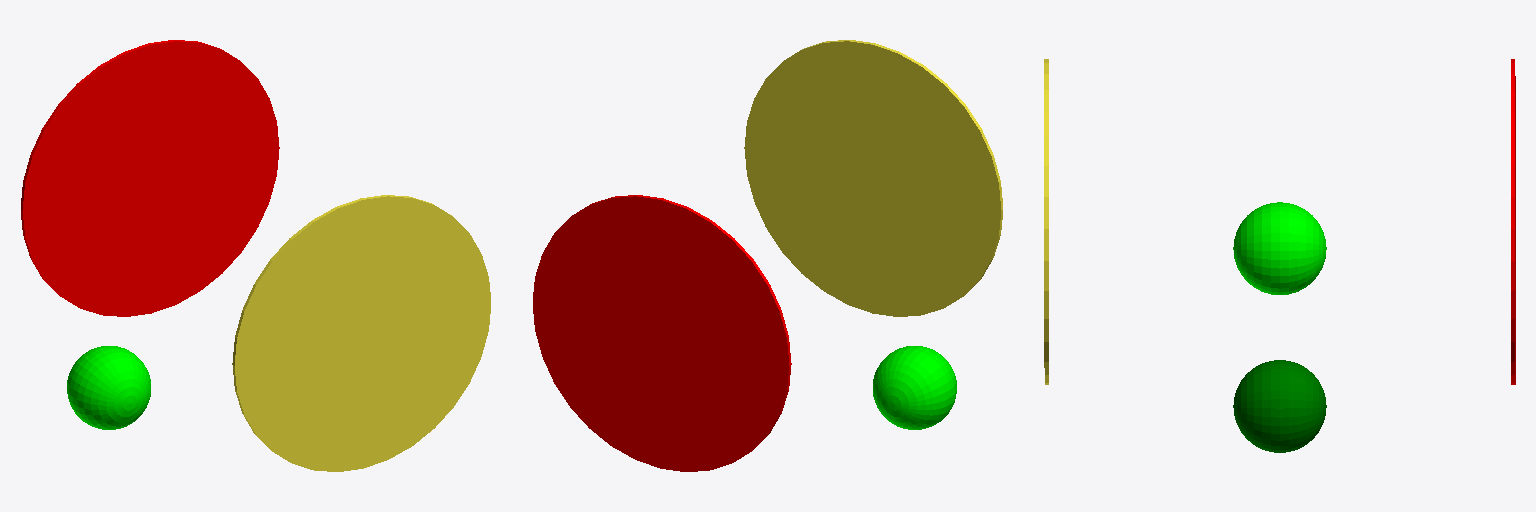
robot.urdf — box_bot:
<?xml version="1.0"?>
<robot name="box_bot">

    <material name="red">
        <color rgba="1.0 0.0 0.0 1"/>
    </material>

    <material name="green_light">
        <color rgba="0.0 1.0 0.0 1"/>
    </material>

    <material name="green_dark">
        <color rgba="0.0 0.5 0.0 1"/>
    </material>

    <material name="blue">
        <color rgba="0.0 0.0 1.0 1"/>
    </material>

    <link name="base_link">
    </link>

    <!-- Body -->
    <link name="chassis">
        <visual>
            <geometry>
                <mesh filename="package://my_box_bot_description/meshes/cute_cube.dae" scale="0.1 0.1 0.1"/>
            </geometry>
        </visual>

        <collision>
            <geometry>
                <box size="0.1 0.1 0.1"/>
            </geometry>
        </collision>

        <inertial>
            <mass value="0.5"/>
            <origin rpy="0 0 0" xyz="0 0 0"/>
            <inertia ixx="0.0008333333333333335" ixy="0" ixz="0" iyy="0.0008333333333333335" iyz="0" izz="0.0008333333333333335"/>
        </inertial>
    </link>

    <joint name="base_link_joint" type="fixed">
        <origin rpy="0 0 0" xyz="0 0 0" />
        <parent link="base_link" />
        <child link="chassis" />
    </joint>

    <!-- Wheel Left -->
    <link name="left_wheel">
        <visual>
            <origin rpy="0 1.5707 1.5707" xyz="0 0 0"/>
            <geometry>
                <cylinder length="0.001" radius="0.035"/>
            </geometry>
            <material name="red"/>
        </visual>

        <collision>
            <origin rpy="0 1.5707 1.5707" xyz="0 0 0"/>
            <geometry>
                <cylinder length="0.001" radius="0.035"/>
            </geometry>
        </collision>

        <inertial>
            <origin rpy="0 1.5707 1.5707" xyz="0 0 0"/>
            <mass value="0.05"/>
            <inertia ixx="1.531666666666667e-05" ixy="0" ixz="0" iyy="1.531666666666667e-05" iyz="0" izz="3.0625000000000006e-05"/>
        </inertial>
    </link>
    <gazebo reference="left_wheel">
        <kp>1000000000000000000000000000.0</kp>
        <kd>1000000000000000000000000000.0</kd>
        <mu1>10.0</mu1>
        <mu2>10.0</mu2>
        <material>Gazebo/Green</material>
    </gazebo>
    <joint name="joint_left_wheel" type="continuous">
        <origin rpy="0 0 0" xyz="0 0.05 -0.025"/>
        <child link="left_wheel"/>
        <parent link="chassis"/>
        <axis rpy="0 0 0" xyz="0 1 0"/>
        <limit effort="10000" velocity="1000"/>
        <joint_properties damping="1.0" friction="1.0"/>
    </joint>

    <!-- Wheel Right -->
    <link name="right_wheel">
        <visual>
            <origin rpy="0 1.5707 1.5707" xyz="0 0 0"/>
            <geometry>
                <cylinder length="0.001" radius="0.035"/>
            </geometry>
            <material name="green"/>
        </visual>

        <collision>
            <origin rpy="0 1.5707 1.5707" xyz="0 0 0"/>
            <geometry>
                <cylinder length="0.001" radius="0.035"/>
            </geometry>
        </collision>

        <inertial>
            <origin rpy="0 1.5707 1.5707" xyz="0 0 0"/>
            <mass value="0.05"/>
            <inertia ixx="1.531666666666667e-05" ixy="0" ixz="0" iyy="1.531666666666667e-05" iyz="0" izz="3.0625000000000006e-05"/>
        </inertial>
    </link>
    <gazebo reference="right_wheel">
        <kp>1000000000000000000000000000.0</kp>
        <kd>1000000000000000000000000000.0</kd>
        <mu1>10.0</mu1>
        <mu2>10.0</mu2>
        <material>Gazebo/Orange</material>
    </gazebo>
    <joint name="joint_right_wheel" type="continuous">
        <origin rpy="0 0 0" xyz="0 -0.05 -0.025"/>
        <child link="right_wheel"/>
        <parent link="chassis"/>
        <axis rpy="0 0 0" xyz="0 1 0"/>
        <limit effort="10000" velocity="1000"/>
        <joint_properties damping="1.0" friction="1.0"/>
    </joint>


    <!-- Caster Wheel Front -->
    <link name="front_yaw_link">
        <visual>
            <origin rpy="0 1.5707 1.5707" xyz="0 0 0"/>
            <geometry>
                <cylinder length="0.001" radius="0.0045000000000000005"/>
            </geometry>
            <material name="blue"/>
        </visual>

        <collision>
            <origin rpy="0 1.5707 1.5707" xyz="0 0 0"/>
            <geometry>
                <cylinder length="0.001" radius="0.0045000000000000005"/>
            </geometry>
        </collision>

        <inertial>
            <origin rpy="0 1.5707 1.5707" xyz="0 0 0"/>
            <mass value="0.001"/>
            <inertia ixx="5.145833333333334e-09" ixy="0" ixz="0" iyy="5.145833333333334e-09" iyz="0" izz="1.0125000000000003e-08"/>
        </inertial>
    </link>

    <joint name="front_yaw_joint" type="continuous">
        <origin rpy="0 0 0" xyz="0.04 0 -0.05" />
        <parent link="chassis" />
        <child link="front_yaw_link" />
        <axis xyz="0 0 1" />
        <limit effort="1000.0" velocity="100.0" />
        <dynamics damping="0.0" friction="0.1"/>
    </joint>
    <gazebo reference="front_yaw_link">
        <material>Gazebo/Blue</material>
    </gazebo>
    <link name="front_roll_link">
        <visual>
            <origin rpy="0 1.5707 1.5707" xyz="0 0 0"/>
            <geometry>
                <cylinder length="0.001" radius="0.0045000000000000005"/>
            </geometry>
            <material name="red"/>
        </visual>

        <collision>
            <origin rpy="0 1.5707 1.5707" xyz="0 0 0"/>
            <geometry>
                <cylinder length="0.001" radius="0.0045000000000000005"/>
            </geometry>
        </collision>

        <inertial>
            <origin rpy="0 1.5707 1.5707" xyz="0 0 0"/>
            <mass value="0.001"/>
            <inertia ixx="5.145833333333334e-09" ixy="0" ixz="0" iyy="5.145833333333334e-09" iyz="0" izz="1.0125000000000003e-08"/>
        </inertial>
    </link>

    <joint name="front_roll_joint" type="continuous">
        <origin rpy="0 0 0" xyz="0 0 0" />
        <parent link="front_yaw_link" />
        <child link="front_roll_link" />
        <axis xyz="1 0 0" />
        <limit effort="1000.0" velocity="100.0" />
        <dynamics damping="0.0" friction="0.1"/>
    </joint>
    <gazebo reference="front_roll_link">
        <material>Gazebo/Red</material>
    </gazebo>
    <link name="front_pitch_link">
        <visual>
        <origin rpy="0 1.5707 1.5707" xyz="0 0 0"/>
            <geometry>
                <sphere radius="0.010"/>
            </geometry>
            <material name="green_dark"/>
        </visual>

        <collision>
            <origin rpy="0 1.5707 1.5707" xyz="0 0 0"/>
            <geometry>
                <sphere radius="0.010"/>
            </geometry>
        </collision>

        <inertial>
            <origin rpy="0 1.5707 1.5707" xyz="0 0 0"/>
            <mass value="0.001"/>
            <inertia ixx="4e-08" ixy="0" ixz="0" iyy="4e-08" iyz="0" izz="4e-08"/>
        </inertial>
    </link>
    <gazebo reference="front_pitch_link">
        <kp>1000000000000000000000000000.0</kp>
        <kd>1000000000000000000000000000.0</kd>
        <mu1>0.5</mu1>
        <mu2>0.5</mu2>
        <material>Gazebo/Purple</material>
    </gazebo>
    <joint name="front_pitch_joint" type="continuous">
        <origin rpy="0 0 0" xyz="0 0 0" />
        <parent link="front_roll_link" />
        <child link="front_pitch_link" />
        <axis xyz="0 1 0" />
        <limit effort="1000.0" velocity="100.0" />
        <dynamics damping="0.0" friction="0.1"/>
    </joint>

    <!-- Caster Wheel Back -->
    <link name="back_yaw_link">
        <visual>
            <origin rpy="0 1.5707 1.5707" xyz="0 0 0"/>
            <geometry>
                <cylinder length="0.001" radius="0.0045000000000000005"/>
            </geometry>
            <material name="blue"/>
        </visual>

        <collision>
            <origin rpy="0 1.5707 1.5707" xyz="0 0 0"/>
            <geometry>
                <cylinder length="0.001" radius="0.0045000000000000005"/>
            </geometry>
        </collision>

        <inertial>
            <origin rpy="0 1.5707 1.5707" xyz="0 0 0"/>
            <mass value="0.001"/>
            <inertia ixx="5.145833333333334e-09" ixy="0" ixz="0" iyy="5.145833333333334e-09" iyz="0" izz="1.0125000000000003e-08"/>
        </inertial>
    </link>

    <joint name="back_yaw_joint" type="continuous">
        <origin rpy="0 0 0" xyz="-0.04 0 -0.05" />
        <parent link="chassis" />
        <child link="back_yaw_link" />
        <axis xyz="0 0 1" />
        <limit effort="1000.0" velocity="100.0" />
        <dynamics damping="0.0" friction="0.1"/>
    </joint>

    <gazebo reference="back_yaw_link">
        <material>Gazebo/Blue</material>
    </gazebo>


    <link name="back_roll_link">
        <visual>
            <origin rpy="0 1.5707 1.5707" xyz="0 0 0"/>
            <geometry>
                <cylinder length="0.001" radius="0.0045000000000000005"/>
            </geometry>
            <material name="red"/>
        </visual>

        <collision>
            <origin rpy="0 1.5707 1.5707" xyz="0 0 0"/>
            <geometry>
                <cylinder length="0.001" radius="0.0045000000000000005"/>
            </geometry>
        </collision>

        <inertial>
            <origin rpy="0 1.5707 1.5707" xyz="0 0 0"/>
            <mass value="0.001"/>
            <inertia ixx="5.145833333333334e-09" ixy="0" ixz="0" iyy="5.145833333333334e-09" iyz="0" izz="1.0125000000000003e-08"/>
        </inertial>
    </link>

    <joint name="back_roll_joint" type="continuous">
        <origin rpy="0 0 0" xyz="0 0 0" />
        <parent link="back_yaw_link" />
        <child link="back_roll_link" />
        <axis xyz="1 0 0" />
        <limit effort="1000.0" velocity="100.0" />
        <dynamics damping="0.0" friction="0.1"/>
    </joint>
    <gazebo reference="back_roll_link">
        <material>Gazebo/Red</material>
    </gazebo>

    <link name="back_pitch_link">
        <visual>
            <origin rpy="0 1.5707 1.5707" xyz="0 0 0"/>
            <geometry>
                <sphere radius="0.010"/>
            </geometry>
            <material name="green_light"/>
        </visual>

        <collision>
            <origin rpy="0 1.5707 1.5707" xyz="0 0 0"/>
            <geometry>
                <sphere radius="0.010"/>
            </geometry>
        </collision>

        <inertial>
            <origin rpy="0 1.5707 1.5707" xyz="0 0 0"/>
            <mass value="0.001"/>
            <inertia ixx="4e-08" ixy="0" ixz="0" iyy="4e-08" iyz="0" izz="4e-08"/>
        </inertial>
    </link>
    <gazebo reference="back_pitch_link">
        <kp>1000000000000000000000000000.0</kp>
        <kd>1000000000000000000000000000.0</kd>
        <mu1>0.5</mu1>
        <mu2>0.5</mu2>
        <material>Gazebo/Yellow</material>
    </gazebo>

    <joint name="back_pitch_joint" type="continuous">
        <origin rpy="0 0 0" xyz="0 0 0" />
        <parent link="back_roll_link" />
        <child link="back_pitch_link" />
        <axis xyz="0 1 0" />
        <limit effort="1000.0" velocity="100.0" />
        <dynamics damping="0.0" friction="0.1"/>
    </joint>

</robot>

--- Facts derived from the render (not from the file) ---
3 views of the same robot in one strip: view 1: azimuth 30°, elevation 25°; view 2: azimuth 150°, elevation 25°; view 3: azimuth 270°, elevation 25° (orthographic).
Robot: box_bot — 10 links, 9 joints (8 continuous, 1 fixed); root link base_link; default pose: all joints at 0.
Links seen in each view (by area): view 1: left_wheel, right_wheel, back_pitch_link; view 2: left_wheel, right_wheel, back_pitch_link; view 3: front_pitch_link, back_pitch_link, left_wheel, right_wheel.
Boxes of the visible links, bbox=[...] form: left_wheel: bbox=[21, 40, 279, 316]; right_wheel: bbox=[232, 195, 490, 471]; back_pitch_link: bbox=[67, 346, 150, 429]; left_wheel: bbox=[533, 195, 791, 471]; right_wheel: bbox=[744, 40, 1002, 316]; back_pitch_link: bbox=[873, 346, 956, 429]; front_pitch_link: bbox=[1233, 360, 1326, 452]; back_pitch_link: bbox=[1233, 202, 1326, 294]; left_wheel: bbox=[1511, 59, 1515, 384]; right_wheel: bbox=[1044, 59, 1048, 384].
Bounding box of the posed robot: 0.1 × 0.101 × 0.07 m (x, y, z).
Meshes: 1 distinct files referenced, 0 mesh visuals loaded (none loaded); not drawn: 1 (file found but could not be loaded).